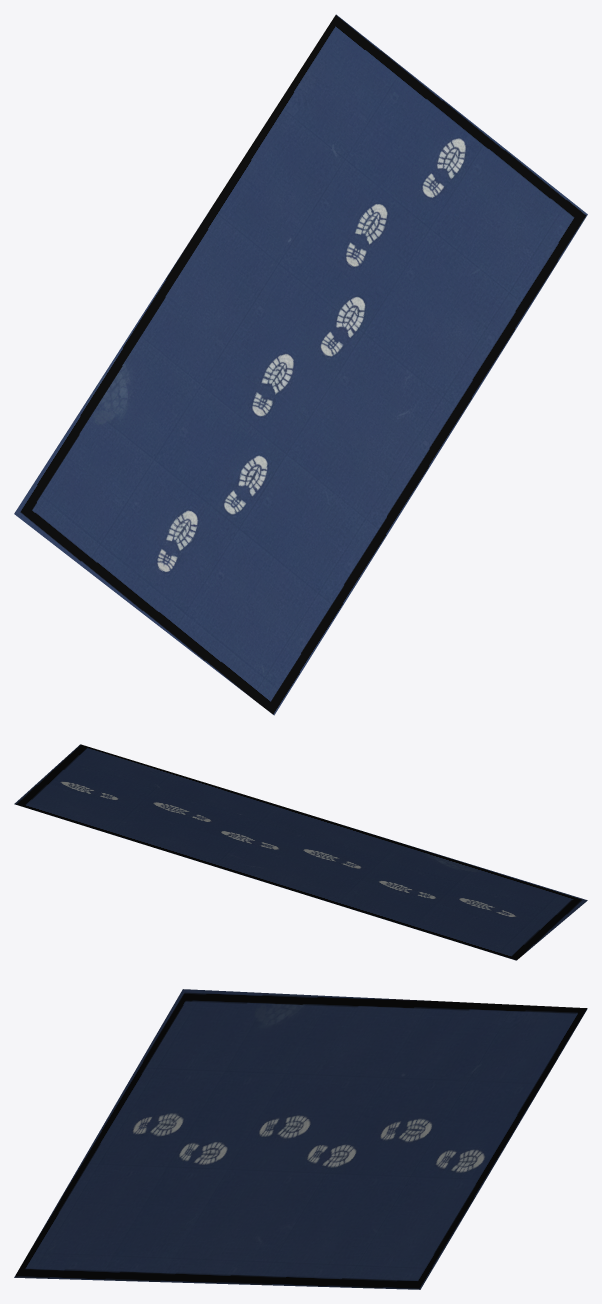
Rendered from carpet.glb.
3 renders of one model, top to bottom at view 1: azimuth 30°, elevation 25°; view 2: azimuth 150°, elevation 25°; view 3: azimuth 270°, elevation 25°, orthographic. The views are drawn at different scales.
Parts seen in each view (by area): view 1: node_id5; view 2: node_id5; view 3: node_id5.
Part boxes in pixels (left/top/right/bottom): node_id5: left=14, top=14, right=587, bottom=715; node_id5: left=14, top=744, right=587, bottom=960; node_id5: left=14, top=989, right=587, bottom=1289.
Size of the model in its own units: 0.7698 by 0.4495 by 0.5298.
Materials: 1 (1 with a texture image).
